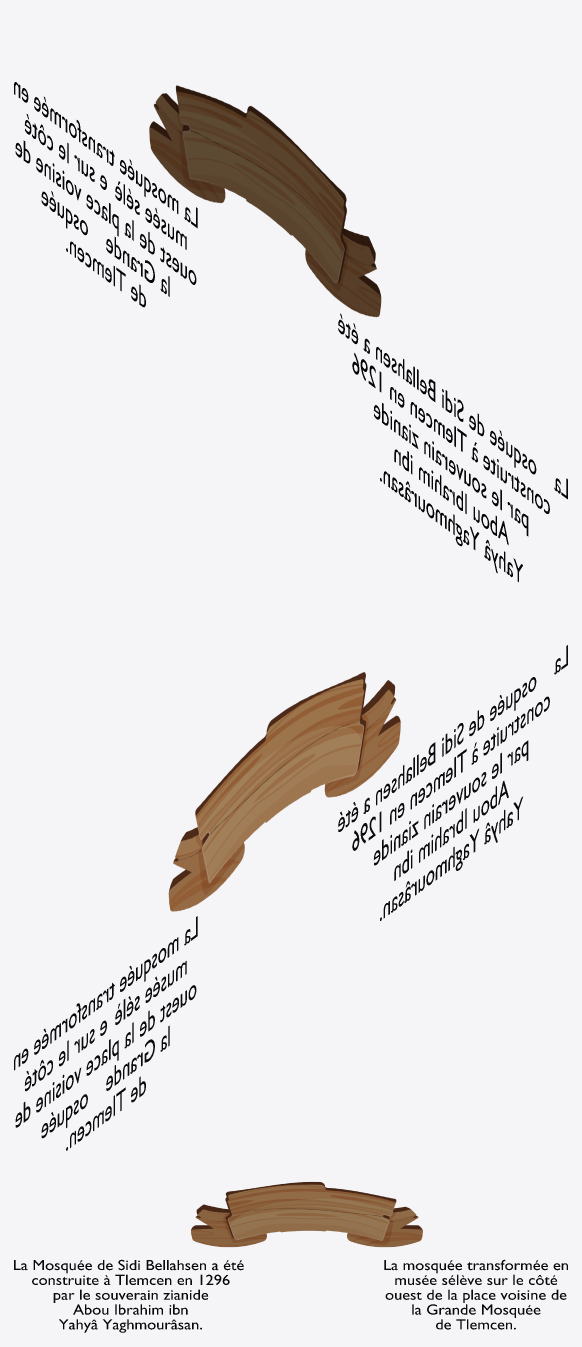
Rendered from 4inf1.gltf.
3 renders of one model, top to bottom at view 1: azimuth 30°, elevation 25°; view 2: azimuth 150°, elevation 25°; view 3: azimuth 270°, elevation 25°, orthographic. The views are drawn at different scales.
Parts seen in each view (by area): view 1: Text.006; view 2: Text.006; view 3: Text.006.
Part boxes in pixels (x1,y1,x2,y2): Text.006: [14, 82, 567, 581]; Text.006: [14, 645, 567, 1150]; Text.006: [14, 1182, 567, 1332].
Bounding box in the file's own units: 0.3027 × 9 × 29.87.
3 materials, 1 textured.
